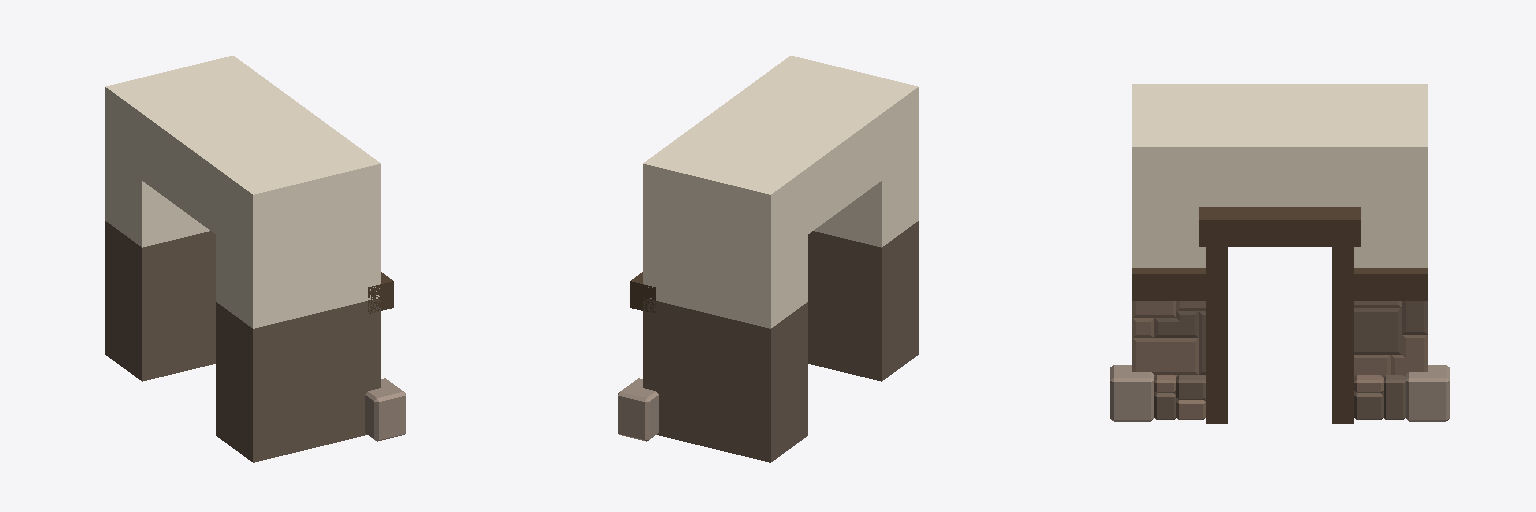
The model's file is Stone_to_Stucco_Doorway_Wide_Tall_2.obj.
3 renders of one model, left to right at view 1: azimuth 30°, elevation 25°; view 2: azimuth 150°, elevation 25°; view 3: azimuth 270°, elevation 25°, orthographic.
Visible parts, largest first — view 1: object9, object3, object10, object2, object4; view 2: object9, object10, object3, object7, object6; view 3: object9, object1, object10, object3, object4, object6, object2, object7, object8, object5.
Part boxes in pixels (x1,y1,x2,y2): object9: (105, 56, 380, 328); object3: (216, 299, 380, 462); object10: (105, 221, 215, 381); object2: (365, 378, 405, 441); object4: (368, 272, 393, 313); object9: (643, 56, 918, 328); object10: (643, 298, 807, 462); object3: (808, 221, 918, 381); object7: (618, 378, 658, 441); object6: (630, 272, 655, 312); object9: (1132, 84, 1427, 267); object1: (1199, 207, 1360, 423); object10: (1354, 301, 1427, 377); object3: (1132, 301, 1205, 376); object4: (1132, 268, 1205, 300); object6: (1354, 268, 1427, 300); object2: (1110, 365, 1153, 421); object7: (1406, 365, 1449, 421); object8: (1154, 375, 1205, 419); object5: (1354, 375, 1405, 419).
Size of the model in its own units: 1.2 by 2 by 2.3.